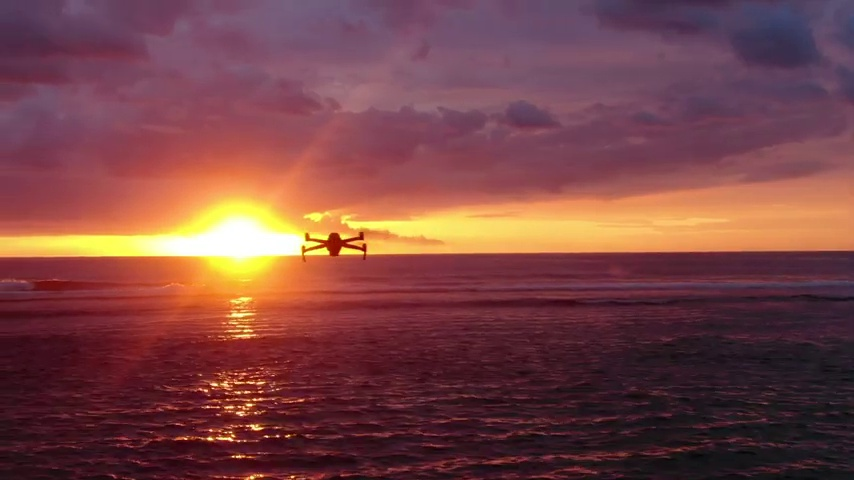drone: (299, 231, 366, 261)
